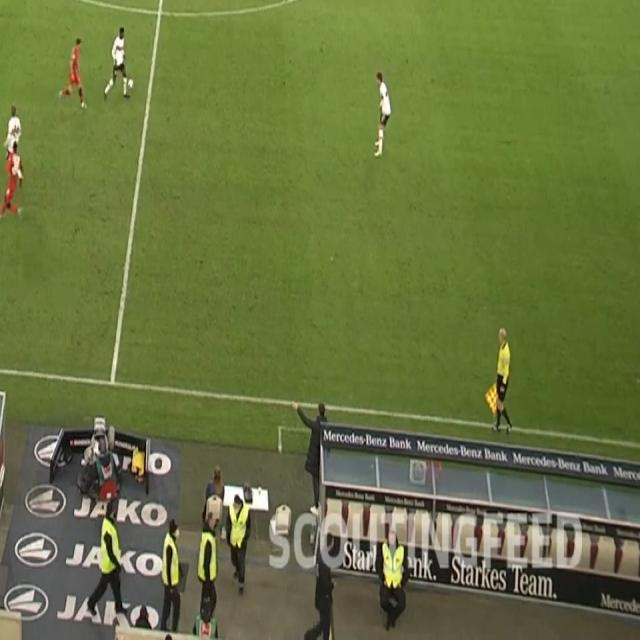ball: (127, 78, 134, 90)
